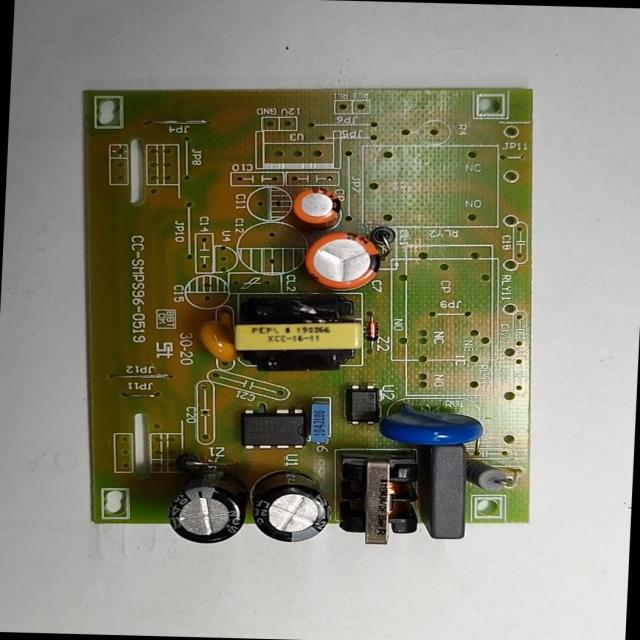Cap1: (302, 229, 381, 290)
Cap2: (290, 185, 344, 228)
Cap3: (250, 470, 334, 544)
Cap4: (165, 466, 249, 545)
MOSFET: (237, 407, 309, 451)
Mov: (376, 402, 485, 448)
Resistor: (466, 460, 512, 493)
Transformer: (226, 287, 364, 373), (337, 452, 424, 548)
